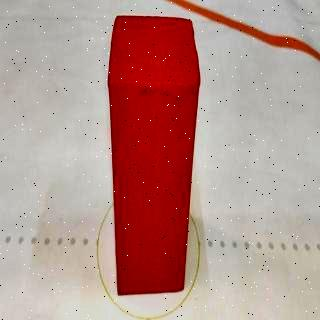redbox: (106, 14, 202, 294)
